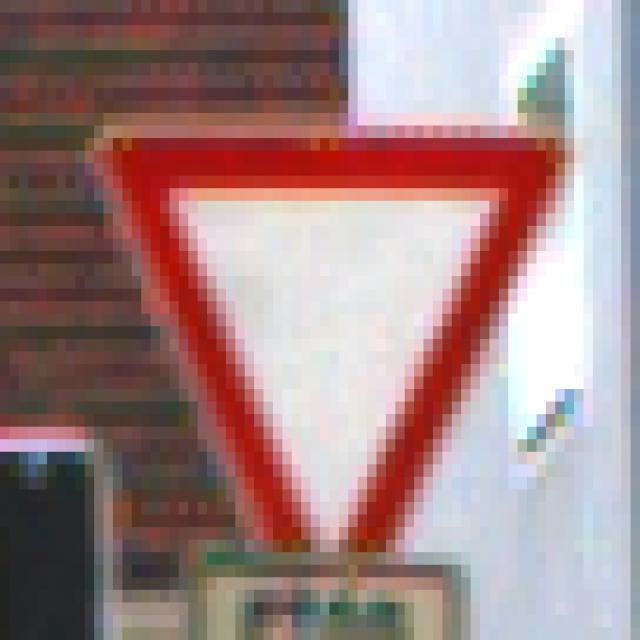Give Way: (58, 77, 585, 579)
